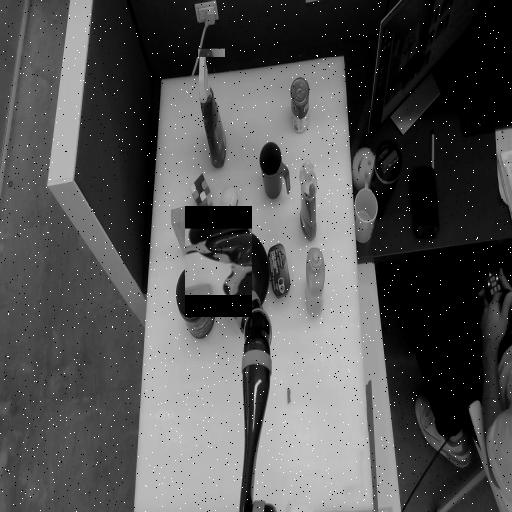bowl: (218, 233, 268, 318)
cleanser: (300, 161, 316, 241)
coffee_can: (176, 267, 214, 338)
jaco: (185, 228, 252, 296)
meat_can: (267, 261, 289, 283)
mug: (259, 143, 289, 199)
mustard_bottle: (306, 249, 324, 317)
rubik: (190, 174, 212, 217)
soup_can: (290, 78, 308, 133)
tennis_ball: (221, 188, 238, 218)
windex: (198, 49, 225, 167)
wooden_block: (171, 208, 195, 254)
workspace: (135, 57, 372, 509)
